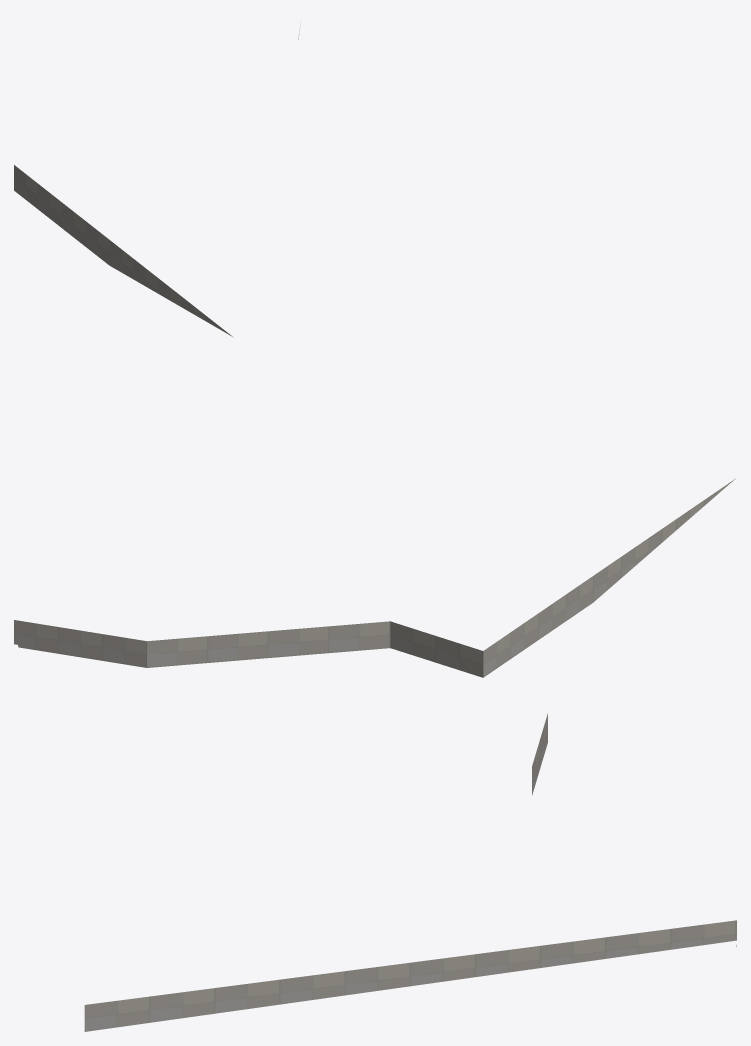
The model's file is kd_stage_135ebf_0_27_bounded.glb.
3 views of the same model, one above another, from view 1: azimuth 30°, elevation 25°; view 2: azimuth 150°, elevation 25°; view 3: azimuth 270°, elevation 25° (orthographic). The views are drawn at different scales.
Visible parts, largest first — view 1: kd_stage_135ebf_0_27_bounded; view 2: kd_stage_135ebf_0_27_bounded; view 3: kd_stage_135ebf_0_27_bounded.
Part boxes in pixels (x1=…): kd_stage_135ebf_0_27_bounded: x1=14, y1=24, x2=300, y2=337; kd_stage_135ebf_0_27_bounded: x1=14, y1=478, x2=735, y2=677; kd_stage_135ebf_0_27_bounded: x1=84, y1=713, x2=736, y2=1031.
Bounding box in the file's own units: 4.75 × 0.22 × 4.85.
Materials: 1 (1 with a texture image).
